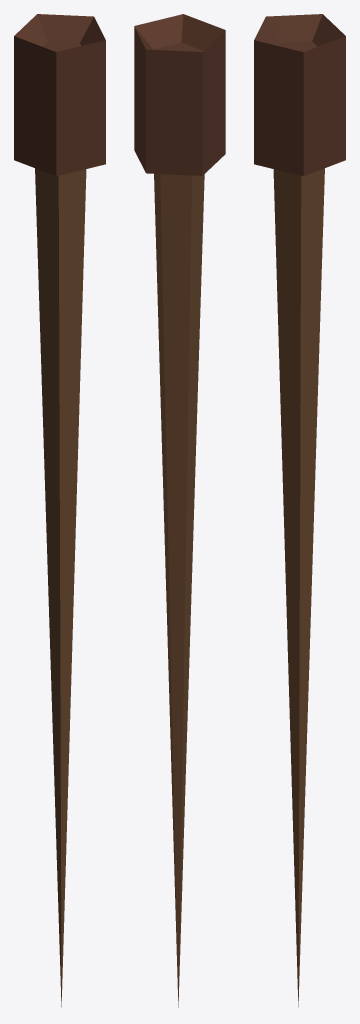
File: Torch1.fbx
3 views of the same model, side by side, from view 1: azimuth 30°, elevation 25°; view 2: azimuth 210°, elevation 25°; view 3: azimuth 330°, elevation 25° (orthographic).
Visible parts, largest first — view 1: Torch_1; view 2: Torch_1; view 3: Torch_1.
Part boxes in pixels (bbox=[...]): Torch_1: bbox=[14, 14, 105, 1007]; Torch_1: bbox=[134, 14, 225, 1007]; Torch_1: bbox=[254, 14, 345, 1007].
Bounding box in the file's own units: 0.0808 × 0.9433 × 0.0768.
